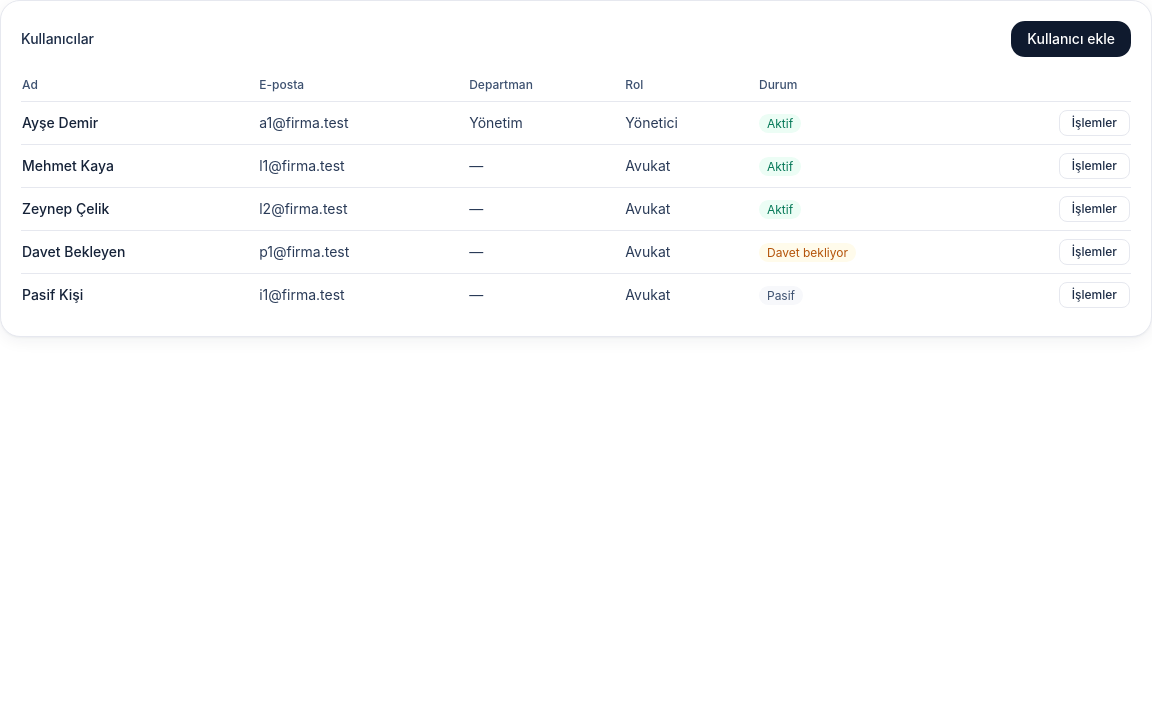
UsersPanel › deactivates a user without work after a plain confirmation
The width and height of the screenshot is (1152, 720).
Expected: the table is shown, left=21, top=69, right=1131, bottom=316
Click the button with aria-label "İşlemler, Mehmet Kaya" at (1094, 166), box left=1059, top=153, right=1130, bottom=179
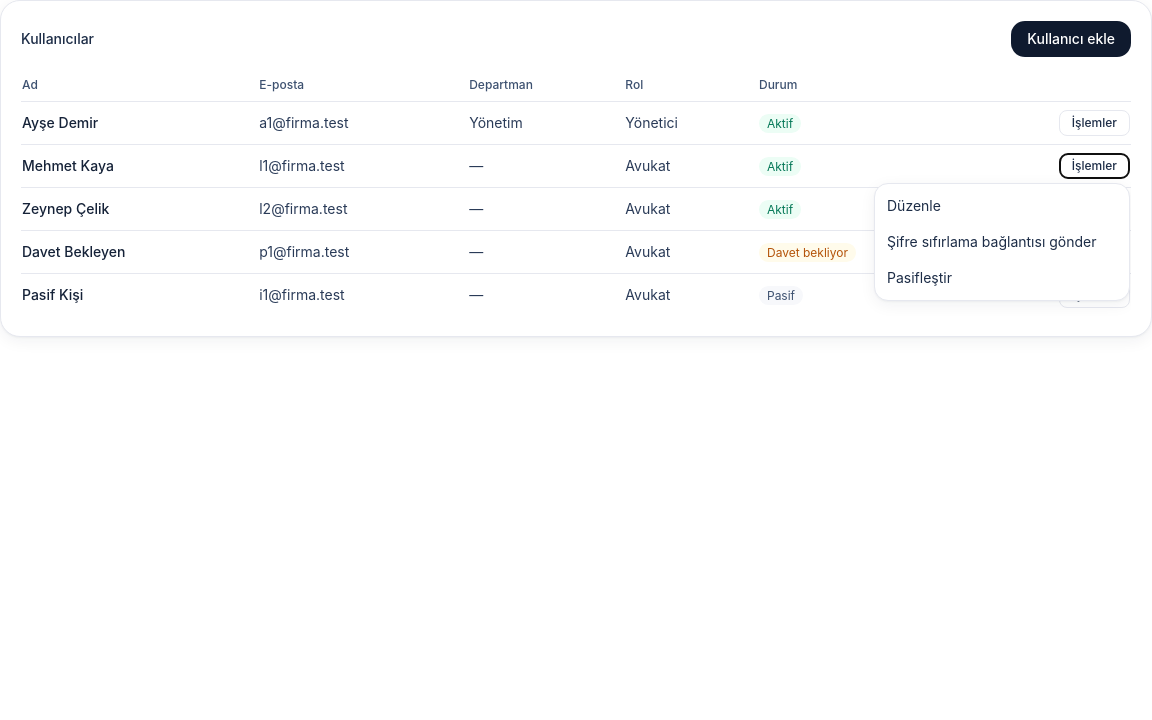
Click the menu item "Pasifleştir" at (1002, 278), box left=875, top=260, right=1129, bottom=296
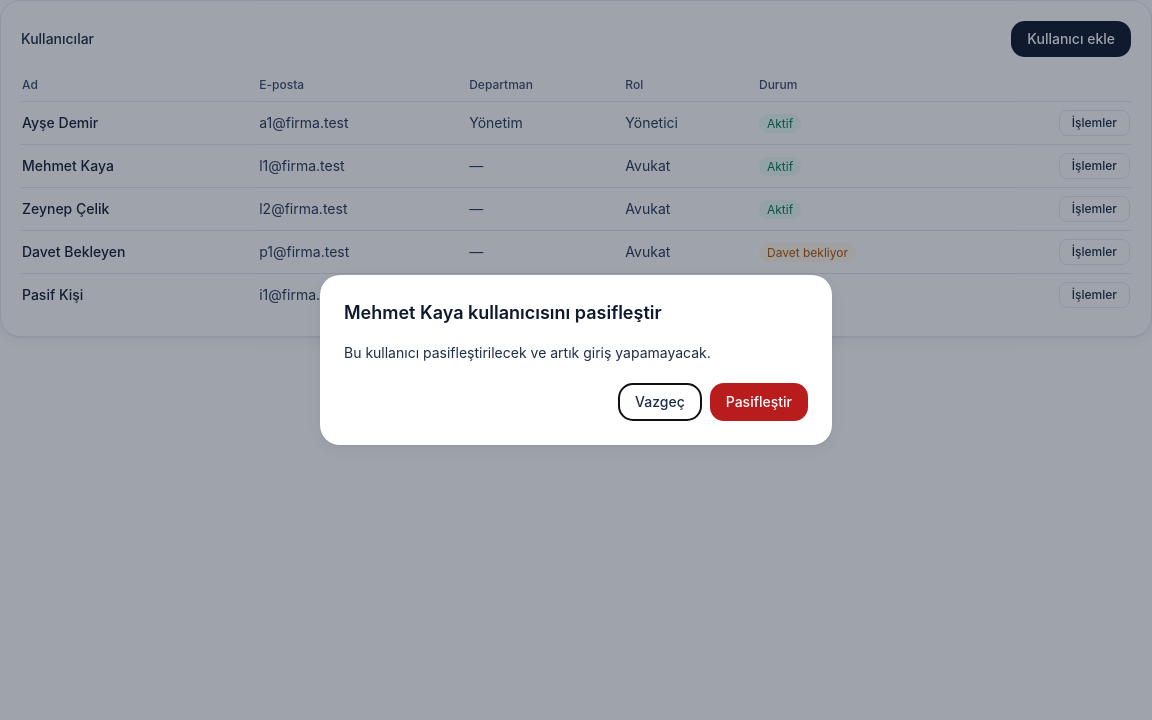
Click the button "Pasifleştir" at (759, 402), box left=710, top=383, right=808, bottom=421
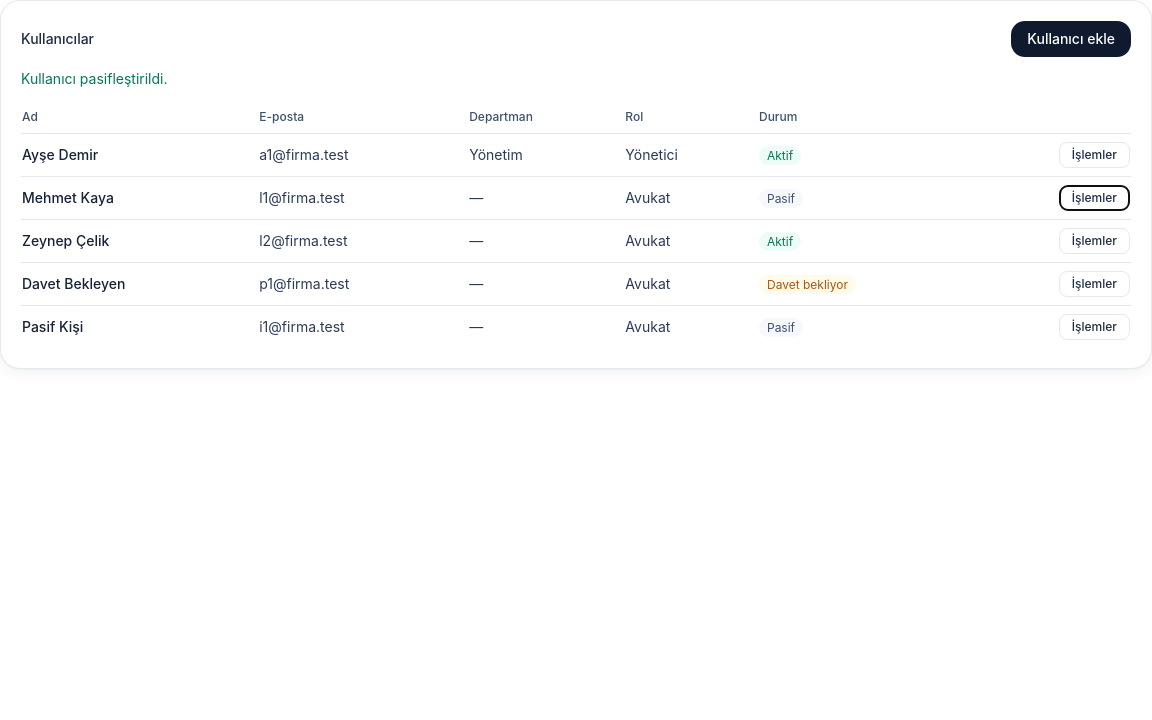
Now the message reads "Kullanıcı pasifleştirildi.", box left=21, top=70, right=168, bottom=87
Now the text "Mehmet Kaya" shows "Pasif", box left=767, top=191, right=795, bottom=206
